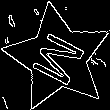M_SE: (25, 26, 91, 90)
